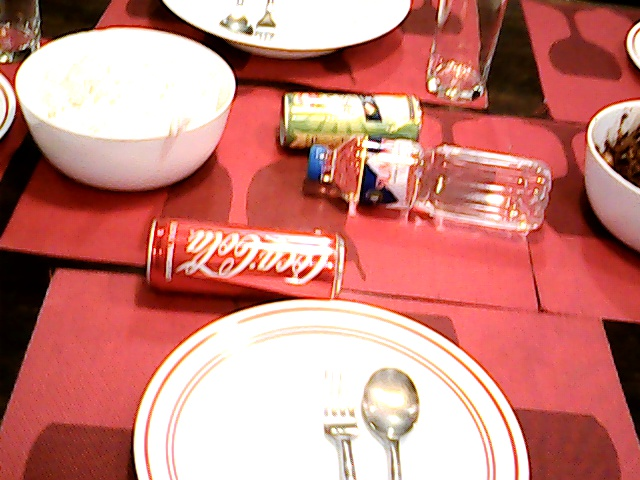Cola: (134, 211, 353, 303)
Pine Juice: (268, 71, 428, 147)
Summit Water: (306, 136, 553, 225)
